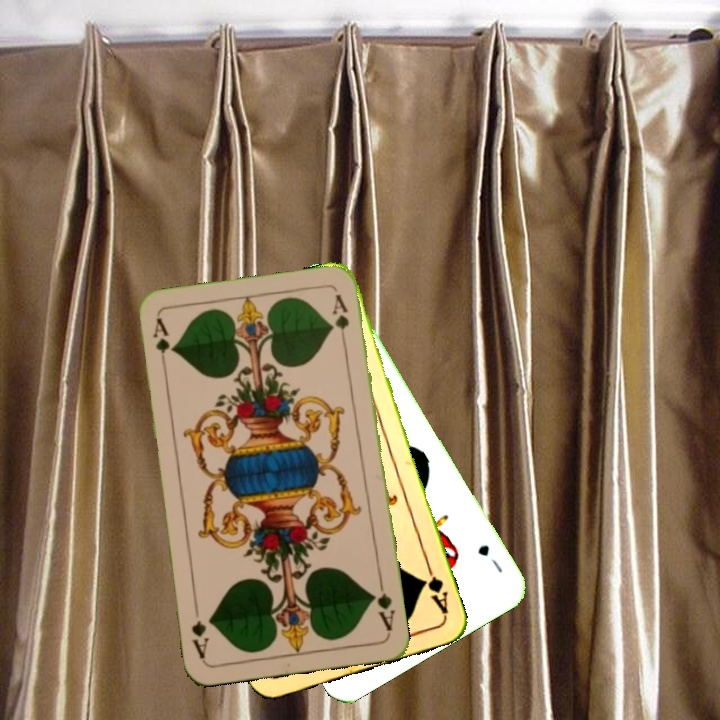GA: (418, 561, 451, 618), (367, 576, 398, 634), (149, 313, 174, 373)
GU: (474, 540, 506, 575)
